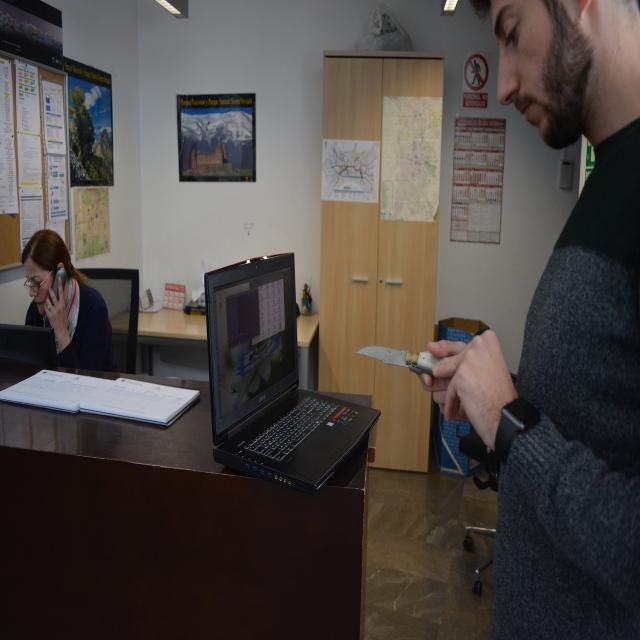knife: (357, 343, 439, 373)
